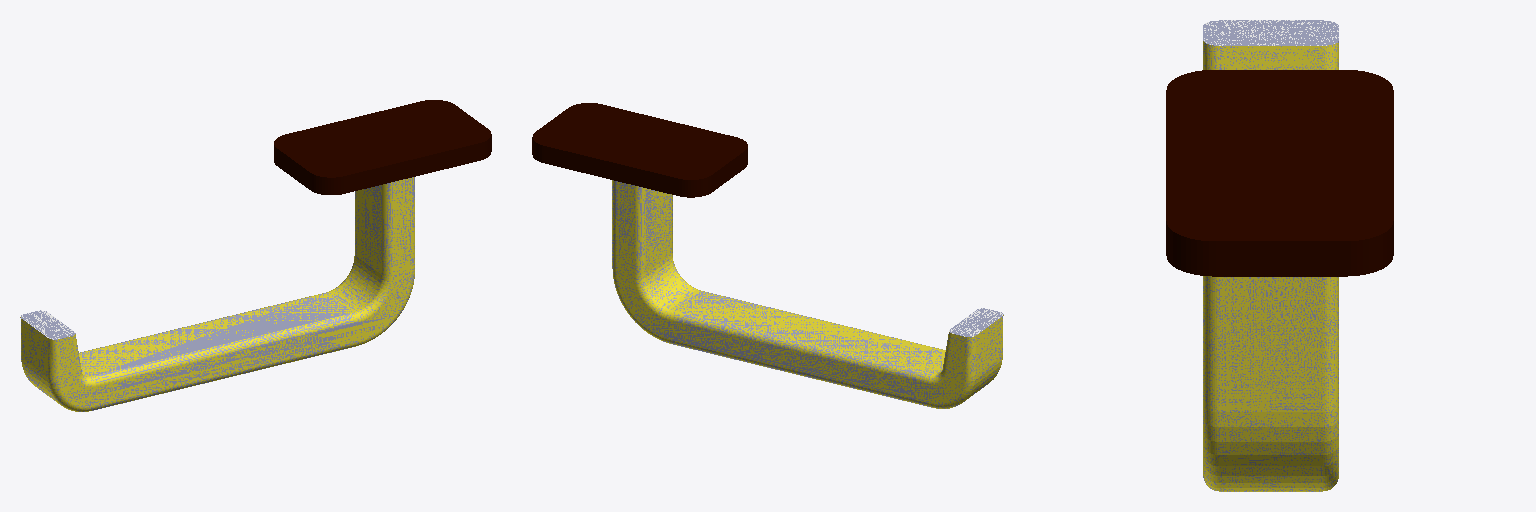
robot.urdf — window:
<?xml version="1.0" ?>
<robot name="window">
	<link name="base"/>
	<link name="link_0">
		<visual name="out-frame">
			<origin xyz="0 0 0"/>
			<geometry>
				<mesh filename="texture_dae/untitled.dae" scale="1 1 1"/>
			</geometry>
		</visual>
		<collision>
			<origin xyz="0 0 0"/>
			<geometry>
				<mesh filename="texture_dae/untitled.dae" scale="1 1 1"/>
			</geometry>
		</collision>
	</link>
	<joint name="joint_0" type="fixed">
		<origin rpy="1.570796326794897 0 -1.570796326794897" xyz="0 0 0"/>
		<child link="link_0"/>
		<parent link="base"/>
	</joint>
	<link name="link_1">
		<visual name="surf-board">
			<origin xyz="0.23565320670604706 -0.34836465252022536 0"/>
			<geometry>
				<mesh filename="texture_dae/untitled1.dae" scale="1 1 1"/>
			</geometry>
		</visual>
		<collision>
			<origin xyz="0.23565320670604706 -0.34836465252022536 0"/>
			<geometry>
				<mesh filename="texture_dae/untitled1.dae" scale="1 1 1"/>
			</geometry>
		</collision>
	</link>
	<joint name="joint_1" type="revolute">
		<origin xyz="-0.23565320670604706 0.34836465252022536 0"/>
		<axis xyz="0 -1 0"/>
		<child link="link_1"/>
		<parent link="link_0"/>
		<limit lower="0" upper="1.5079644737231006"/>
	</joint>
	<link name="link_2">
		<visual name="handle">
			<origin xyz="0 0 0"/>
			<geometry>
				<mesh filename="texture_dae/9969515-handle.dae" scale="1.4385465761396696 1.4385465761396696 1.4385465761396696"/>
			</geometry>
		</visual>
		<collision>
			<origin xyz="0 0 0"/>
			<geometry>
				<mesh filename="texture_dae/9969515-handle.dae" scale="1.4385465761396696 1.4385465761396696 1.4385465761396696"/>
			</geometry>
		</collision>
	</link>
	<joint name="joint_2" type="revolute">
		<origin xyz="0 0 0"/>
		<child link="link_2"/>
		<parent link="link_3"/>
		<axis xyz="0 0 1"/>
		<limit lower="0" upper="1.5079644737231006"/>
	</joint>
	<link name="link_3">
		<visual name="lock">
			<origin xyz="0 0 0"/>
			<geometry>
				<mesh filename="texture_dae/9969515-lock.dae" scale="1.4385465761396696 1.4385465761396696 1.4385465761396696"/>
			</geometry>
		</visual>
		<collision>
			<origin xyz="0 0 0"/>
			<geometry>
				<mesh filename="texture_dae/9969515-lock.dae" scale="1.4385465761396696 1.4385465761396696 1.4385465761396696"/>
			</geometry>
		</collision>
	</link>
	<joint name="joint_3" type="fixed">
		<origin xyz="0.44409596992656586 -0.34836465252022536 0.00917094583565014"/>
		<child link="link_3"/>
		<parent link="link_1"/>
	</joint>
</robot>

--- Facts derived from the render (not from the file) ---
Views: 3 orthographic renders of the robot side by side, from view 1: azimuth 30°, elevation 25°; view 2: azimuth 150°, elevation 25°; view 3: azimuth 270°, elevation 25°.
Model window with 5 links and 4 joints (2 revolute, 2 fixed), rooted at base, posed every joint at zero.
Links seen in each view (by area): view 1: link_2, link_3; view 2: link_2, link_3; view 3: link_3, link_2.
Link boxes in pixels (<box>): link_2: <box>20,177,414,411</box>; link_3: <box>274,100,491,194</box>; link_2: <box>612,180,1003,408</box>; link_3: <box>532,103,747,197</box>; link_3: <box>1166,70,1393,276</box>; link_2: <box>1203,20,1338,491</box>.
Bounding box of the posed robot: 0.1799 × 0.0408 × 0.0725 m (x, y, z).
Meshes: 4 distinct files referenced, 2 mesh visuals loaded (2 Collada DAE); not drawn: 2 (reference not matched to a file when rendering).
